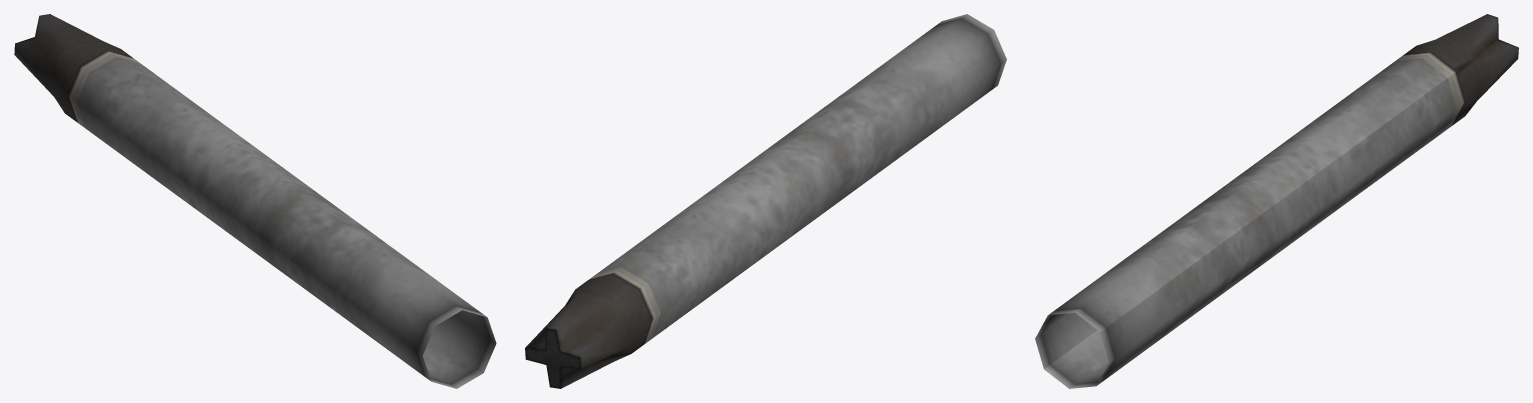
Rendered from Screwdriver_S_Shaft_low.obj.
3 renders of one model, left to right at view 1: azimuth 30°, elevation 25°; view 2: azimuth 150°, elevation 25°; view 3: azimuth 330°, elevation 25°, orthographic.
Bounding box in the file's own units: 0.00429 × 0.00429 × 0.0419.
1 material, 1 textured.
